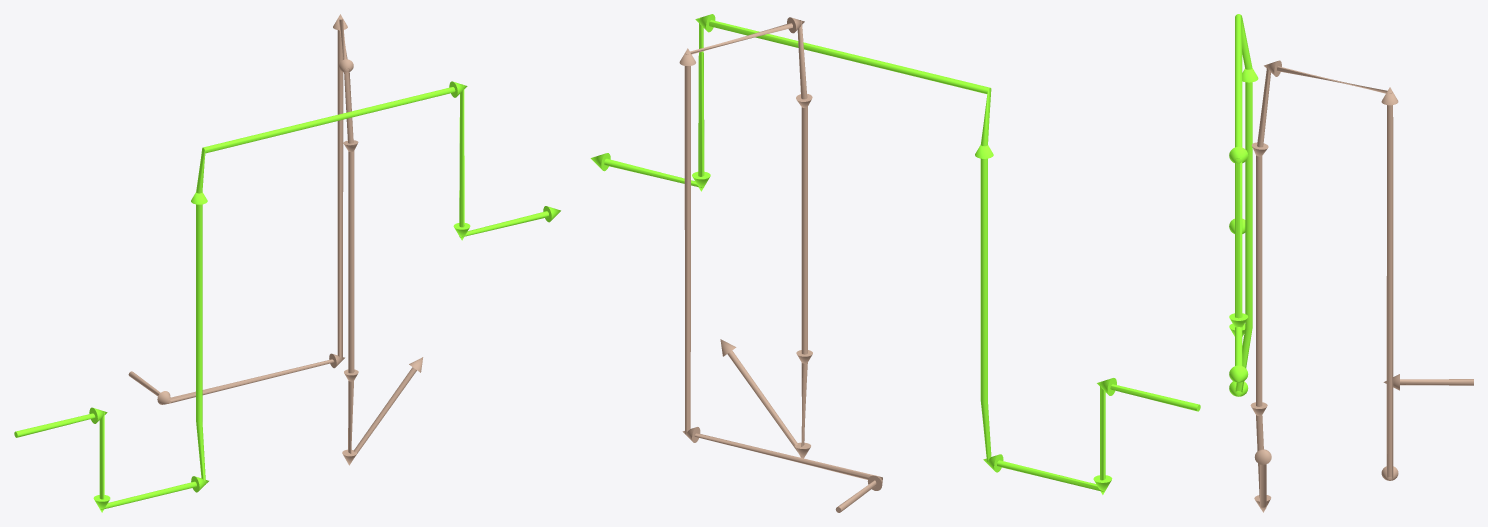
Rendered from instrument_air_dryer_flow.glb.
3 views of the same model, side by side, from view 1: azimuth 30°, elevation 25°; view 2: azimuth 150°, elevation 25°; view 3: azimuth 270°, elevation 25° (orthographic). The views are drawn at different scales.
Parts seen in each view (by area): view 1: wet_air, hot_purge; view 2: wet_air, hot_purge; view 3: hot_purge, wet_air.
Boxes of the visible parts, left/top/right/bottom form: wet_air: left=14, top=81, right=560, bottom=512; hot_purge: left=128, top=14, right=423, bottom=465; wet_air: left=590, top=14, right=1200, bottom=494; hot_purge: left=679, top=17, right=882, bottom=512; hot_purge: left=1250, top=60, right=1473, bottom=512; wet_air: left=1229, top=14, right=1258, bottom=396.
Bounding box in the file's own units: 3.49 × 2.45 × 1.2.
